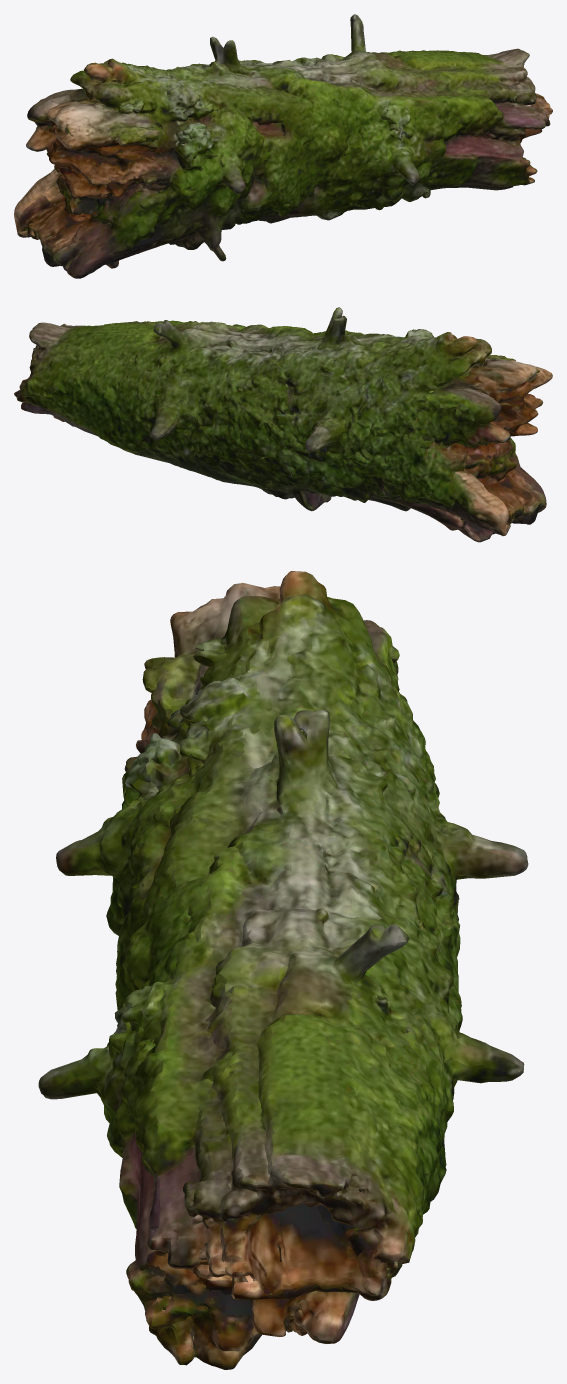
The model's file is mossy-log.glb.
3 renders of one model, top to bottom at view 1: azimuth 30°, elevation 25°; view 2: azimuth 150°, elevation 25°; view 3: azimuth 270°, elevation 25°, orthographic. The views are drawn at different scales.
Visible parts, largest first — view 1: geometry_0; view 2: geometry_0; view 3: geometry_0.
Part boxes in pixels (x1,y1,x2,y2): geometry_0: (14,14,552,278); geometry_0: (14,307,552,542); geometry_0: (38,571,528,1369).
Bounding box in the file's own units: 0.8497 × 0.3296 × 0.3627.
1 material, 1 textured.
